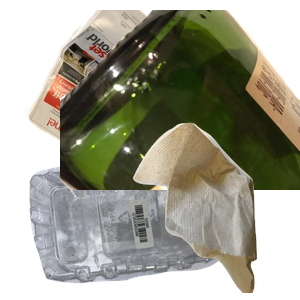glass: (60, 10, 300, 190)
paper: (23, 10, 245, 190)
plastic: (27, 152, 247, 300)
trash: (131, 120, 300, 300)
